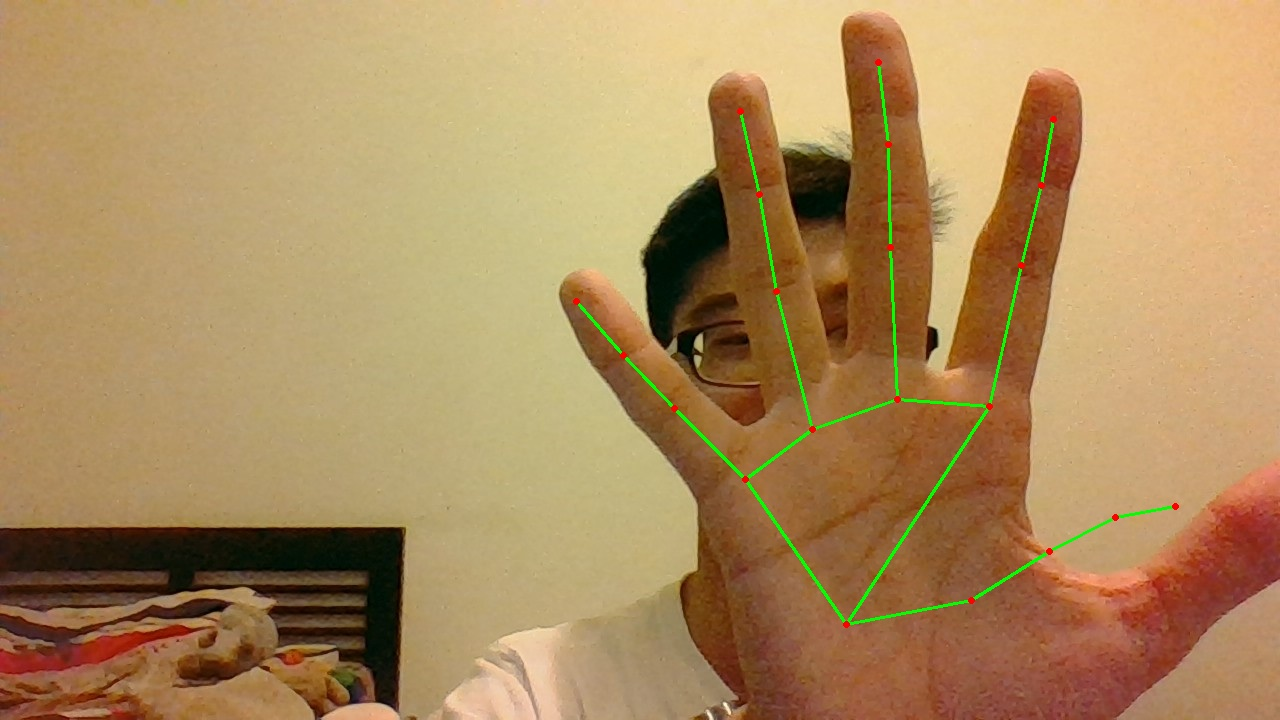Hello: (563, 51, 1193, 642)
